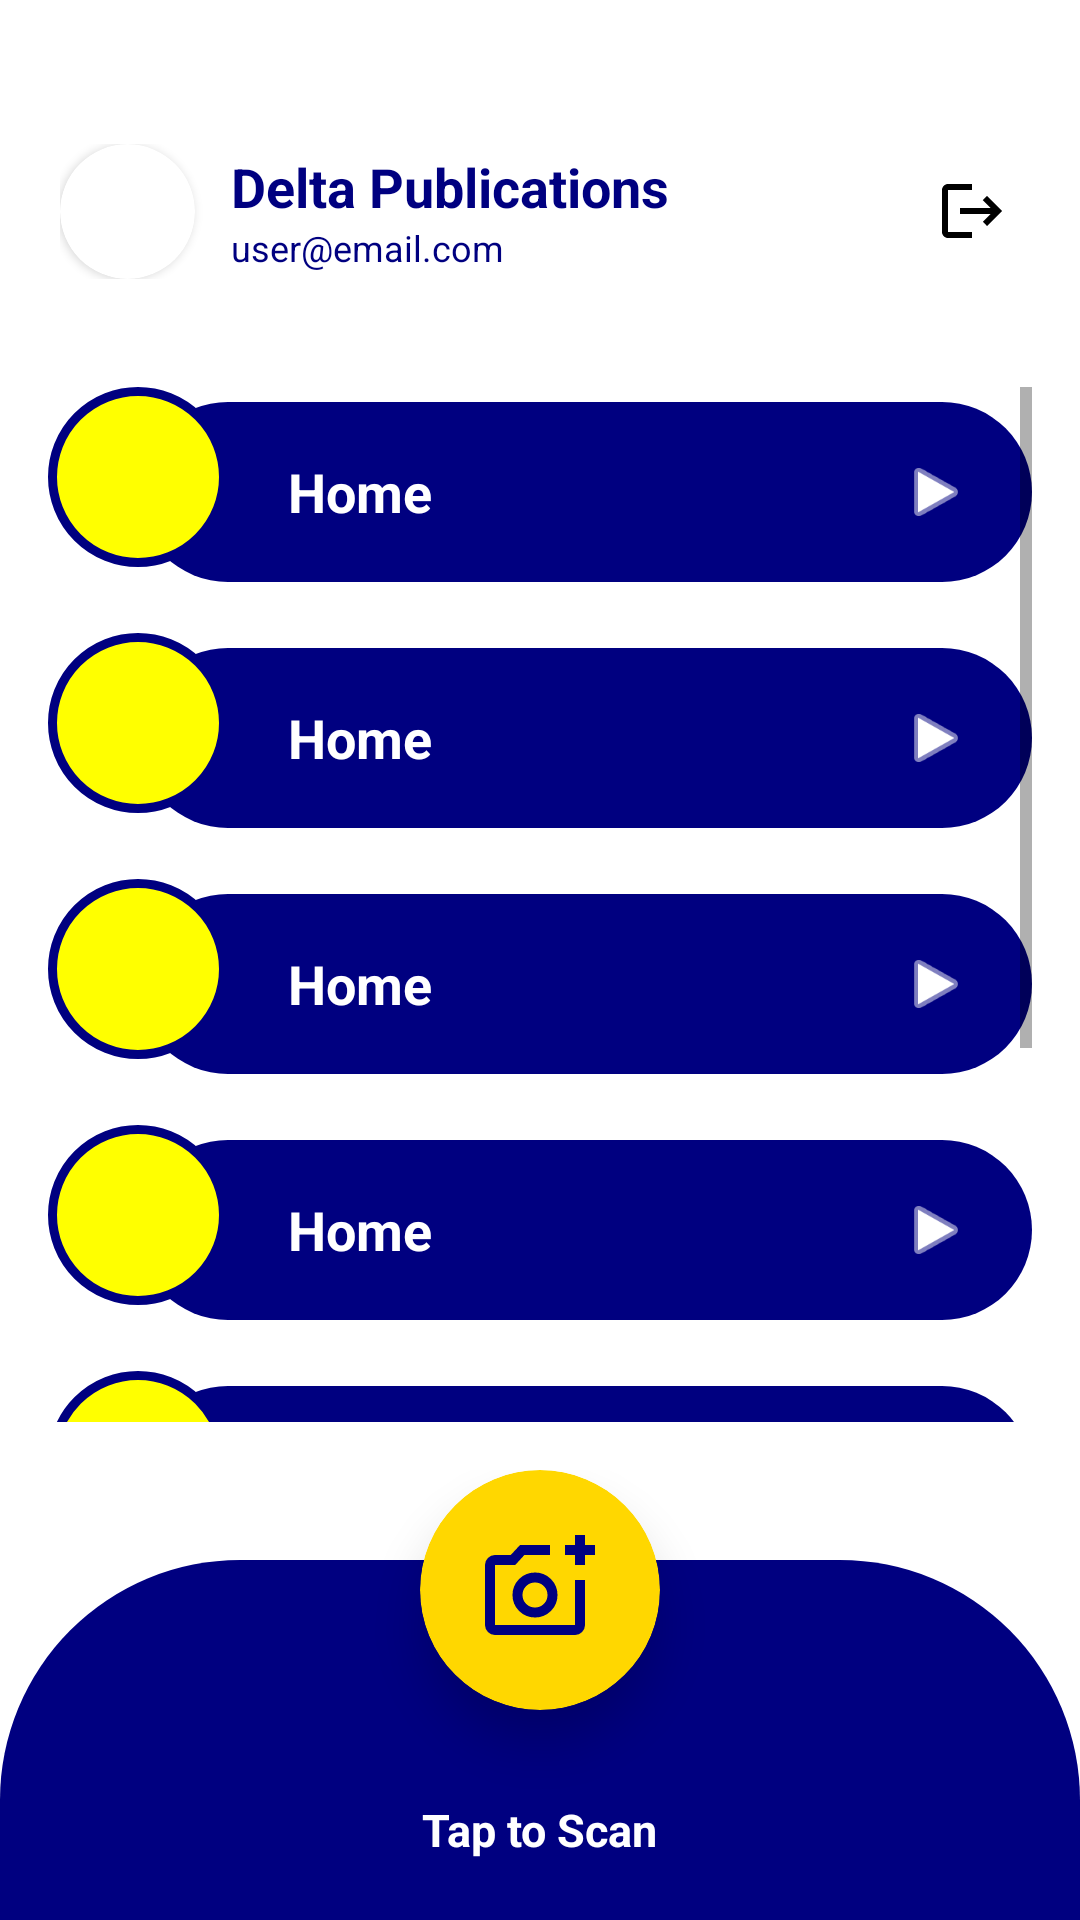

Point at icon controls on the screen. Image size 1080px x 1920px, points as (x,y).
add photo: (540,1585)
